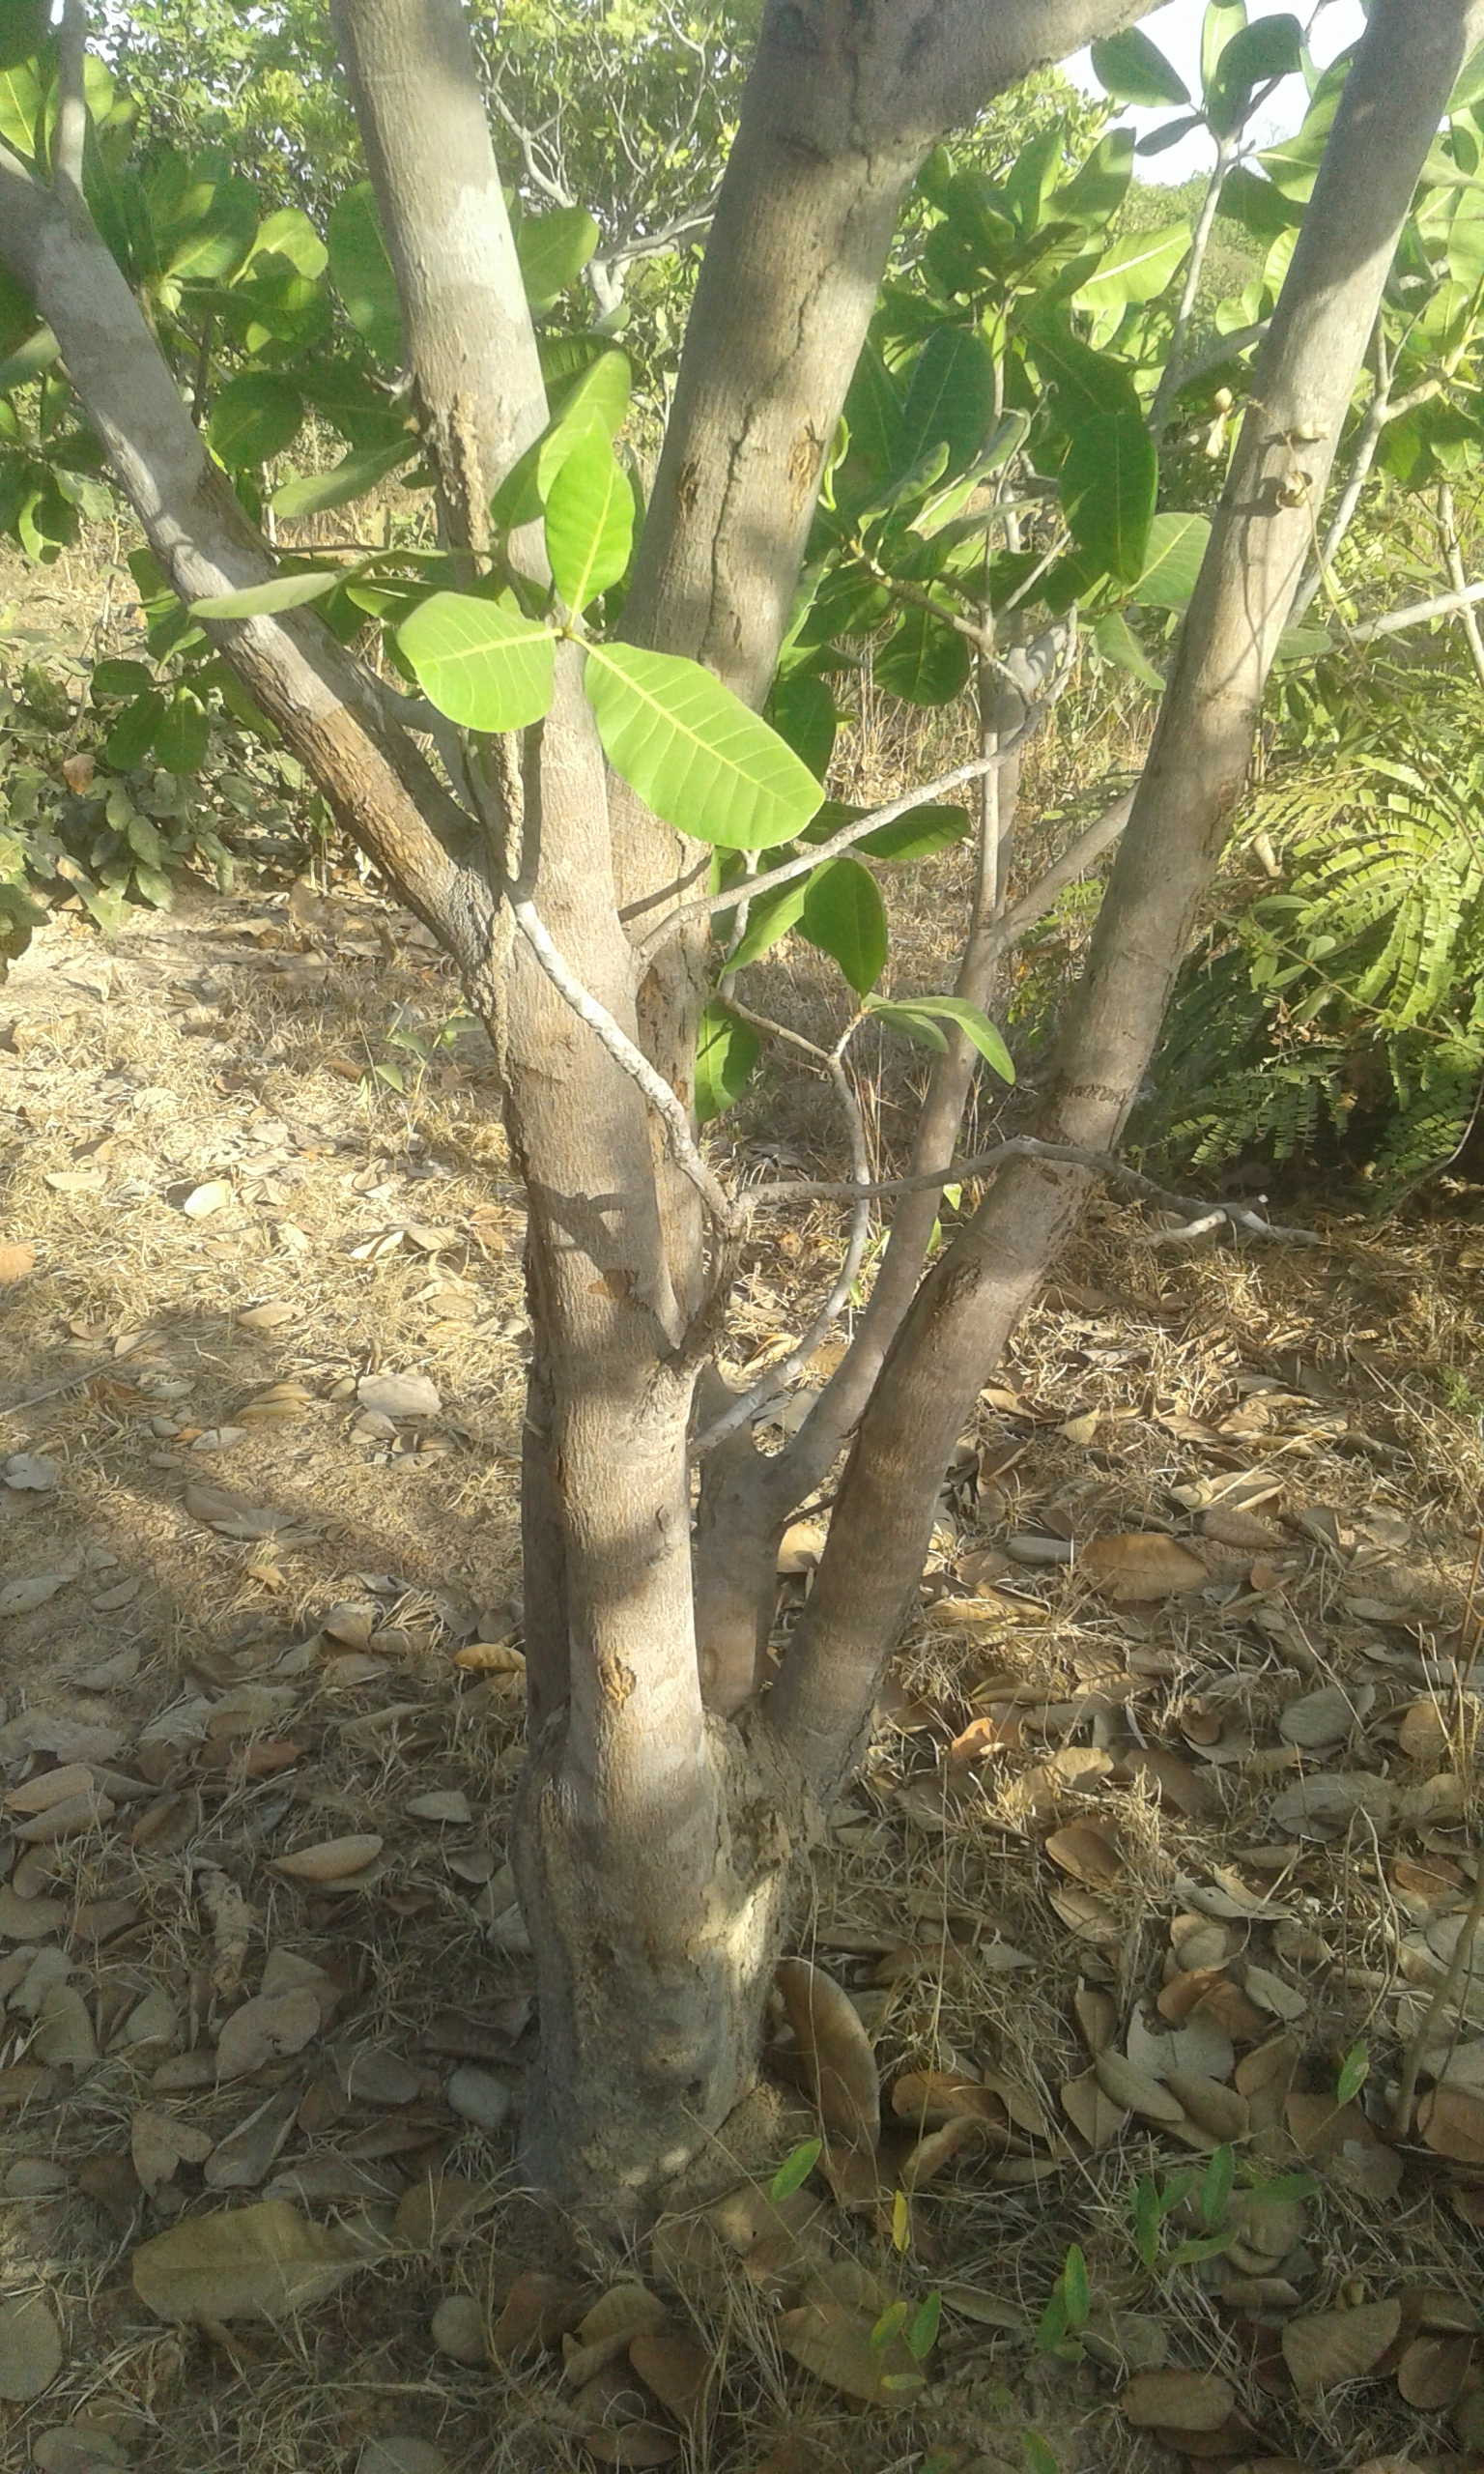Termites: (549, 1670, 687, 2191), (700, 111, 820, 657), (479, 878, 530, 1090)
